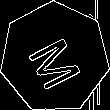M_NE: (23, 25, 87, 90)
